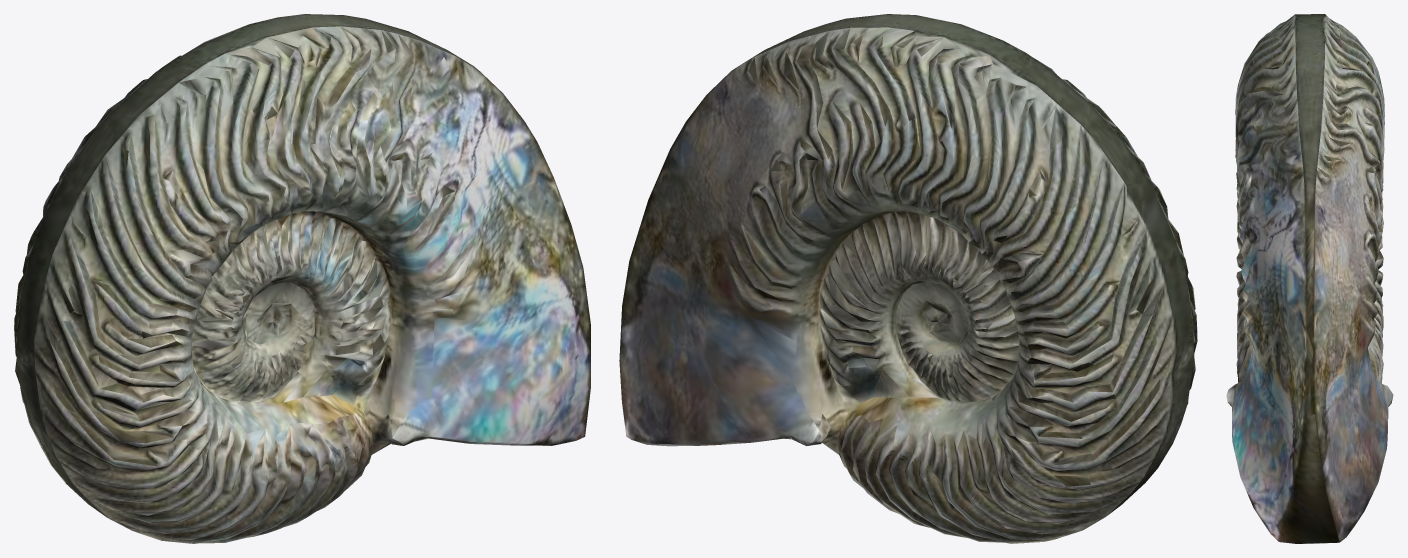
The model's file is ammonite.glb.
The picture shows the model from 3 angles, left to right: view 1: azimuth 30°, elevation 25°; view 2: azimuth 150°, elevation 25°; view 3: azimuth 270°, elevation 25°; orthographic projection. The views are drawn at different scales.
Visible parts, largest first — view 1: ammonite; view 2: ammonite; view 3: ammonite.
Part boxes in pixels (x1=…): ammonite: x1=14, y1=14, x2=590, y2=543; ammonite: x1=619, y1=14, x2=1197, y2=543; ammonite: x1=1226, y1=14, x2=1393, y2=543.
Bounding box in the file's own units: 1 × 0.8466 × 0.3132.
Materials: 1 (1 with a texture image).
